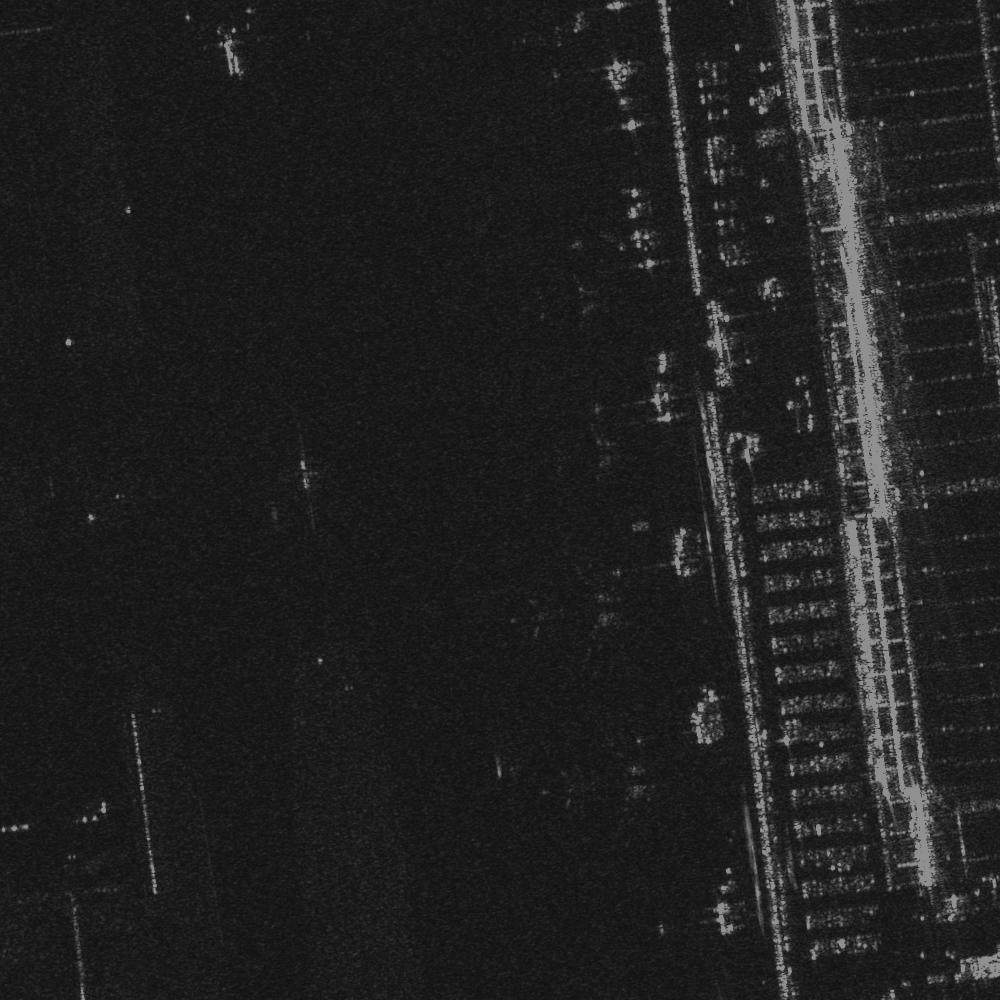Boeing787: (510, 555, 634, 674), (556, 729, 660, 840), (533, 259, 614, 329), (554, 419, 629, 480)
other: (200, 20, 255, 77)
